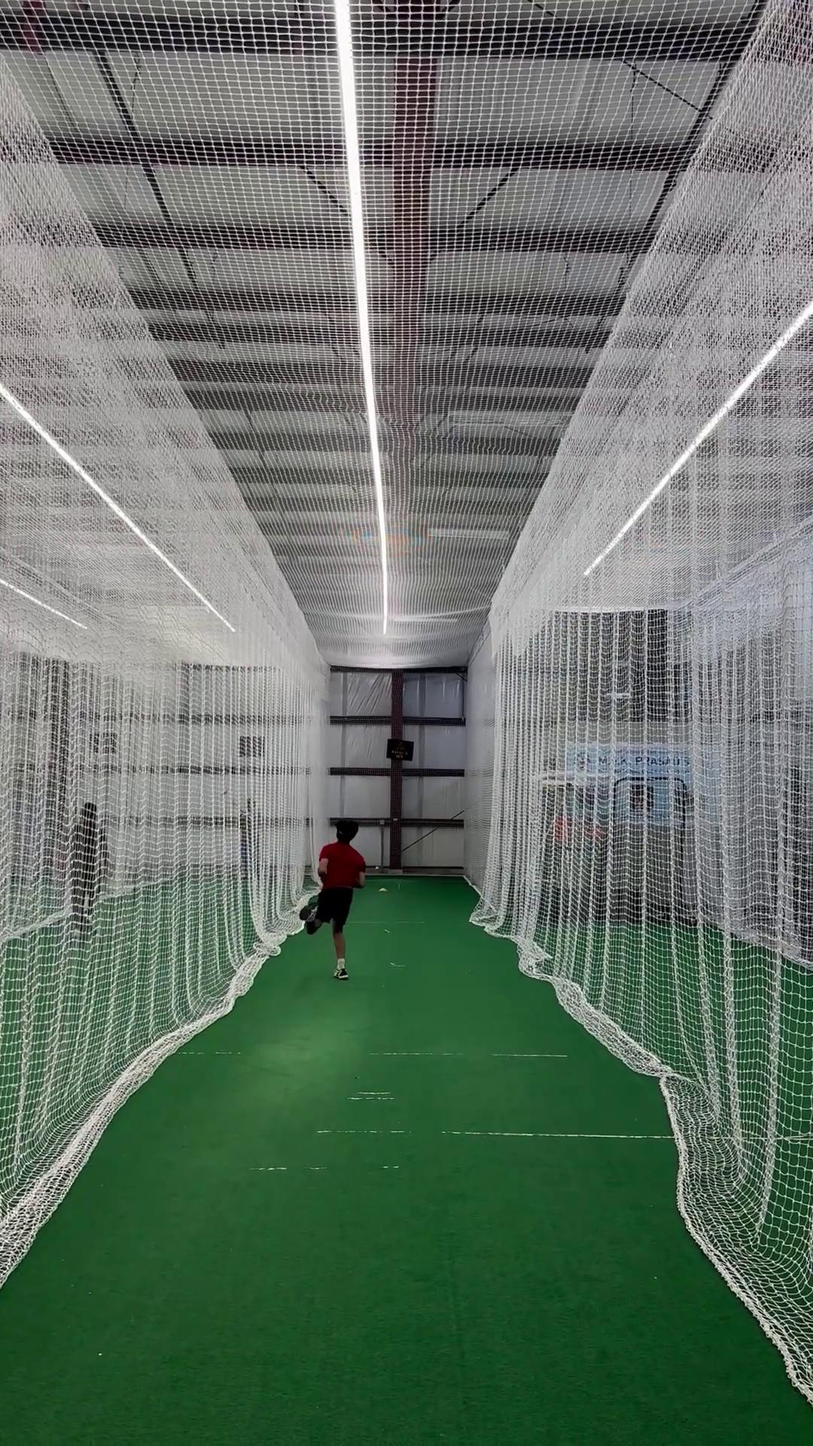ball: (372, 863, 382, 872)
